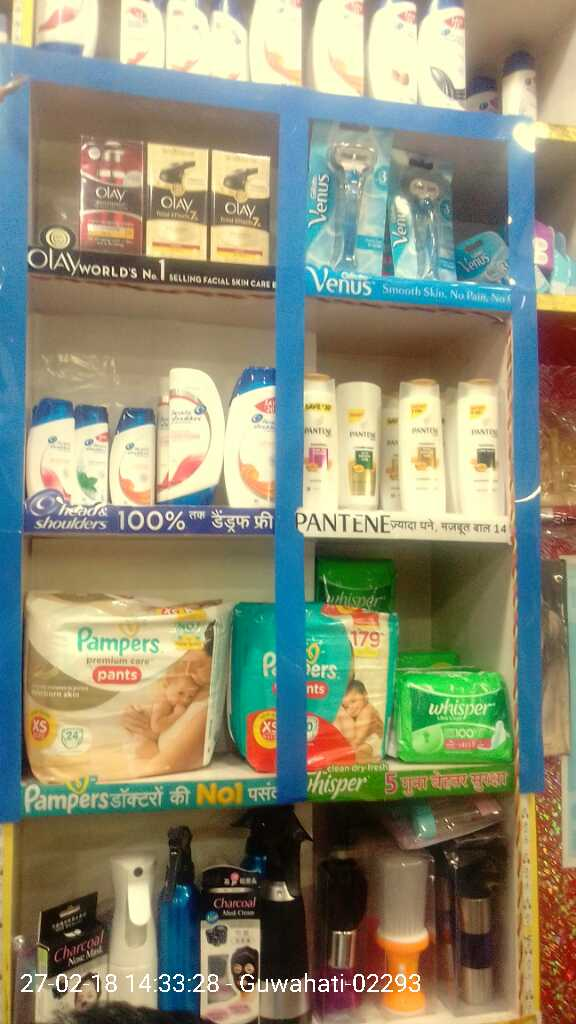venus: (393, 139, 465, 275), (311, 139, 393, 258), (465, 232, 507, 275)
